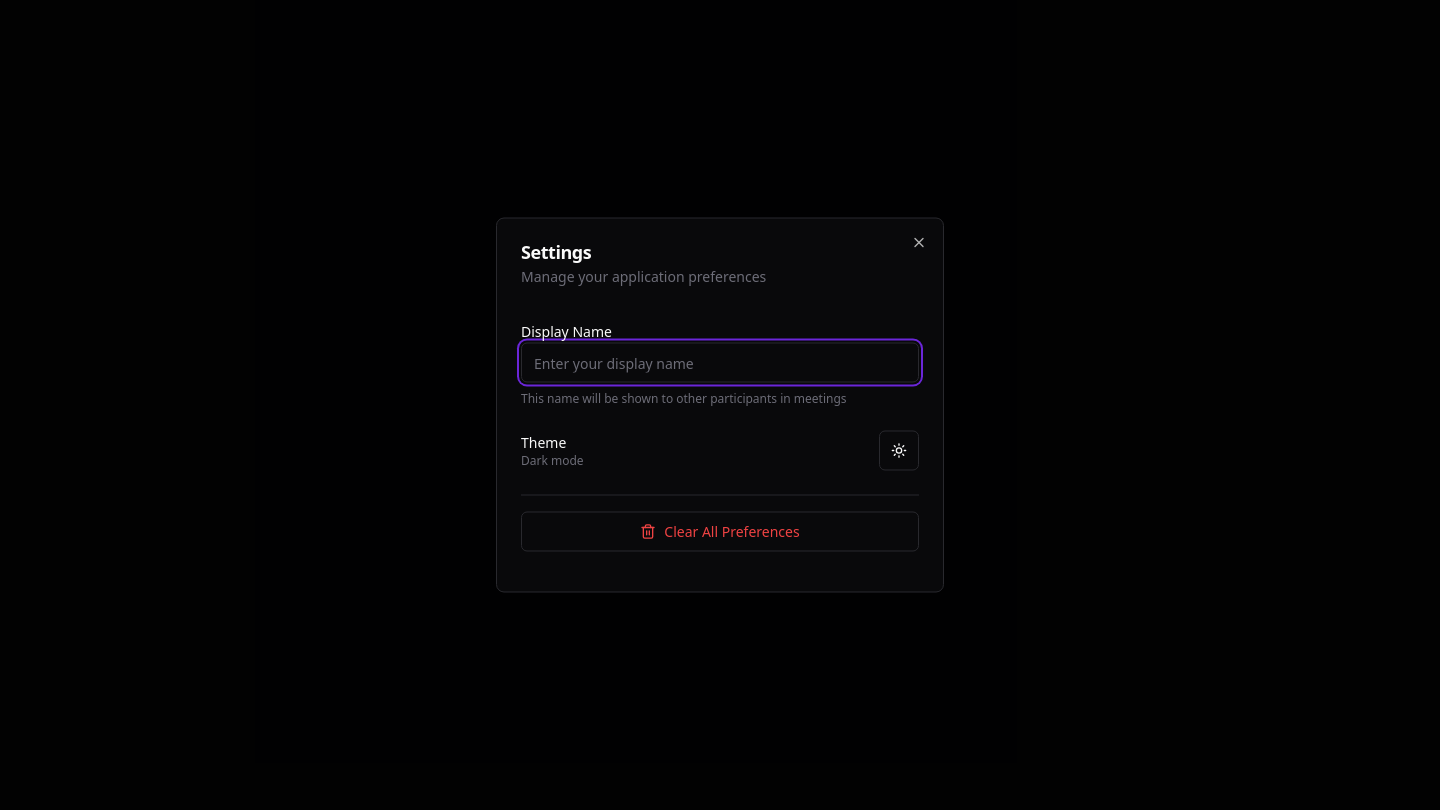
Test case: SettingsModal › clear preferences button (AC-2.14.5, AC-2.14.6) › shows confirmation when clear button is clicked
Click the button "Clear All Preferences" at (720, 532), box [521,512,919,552]
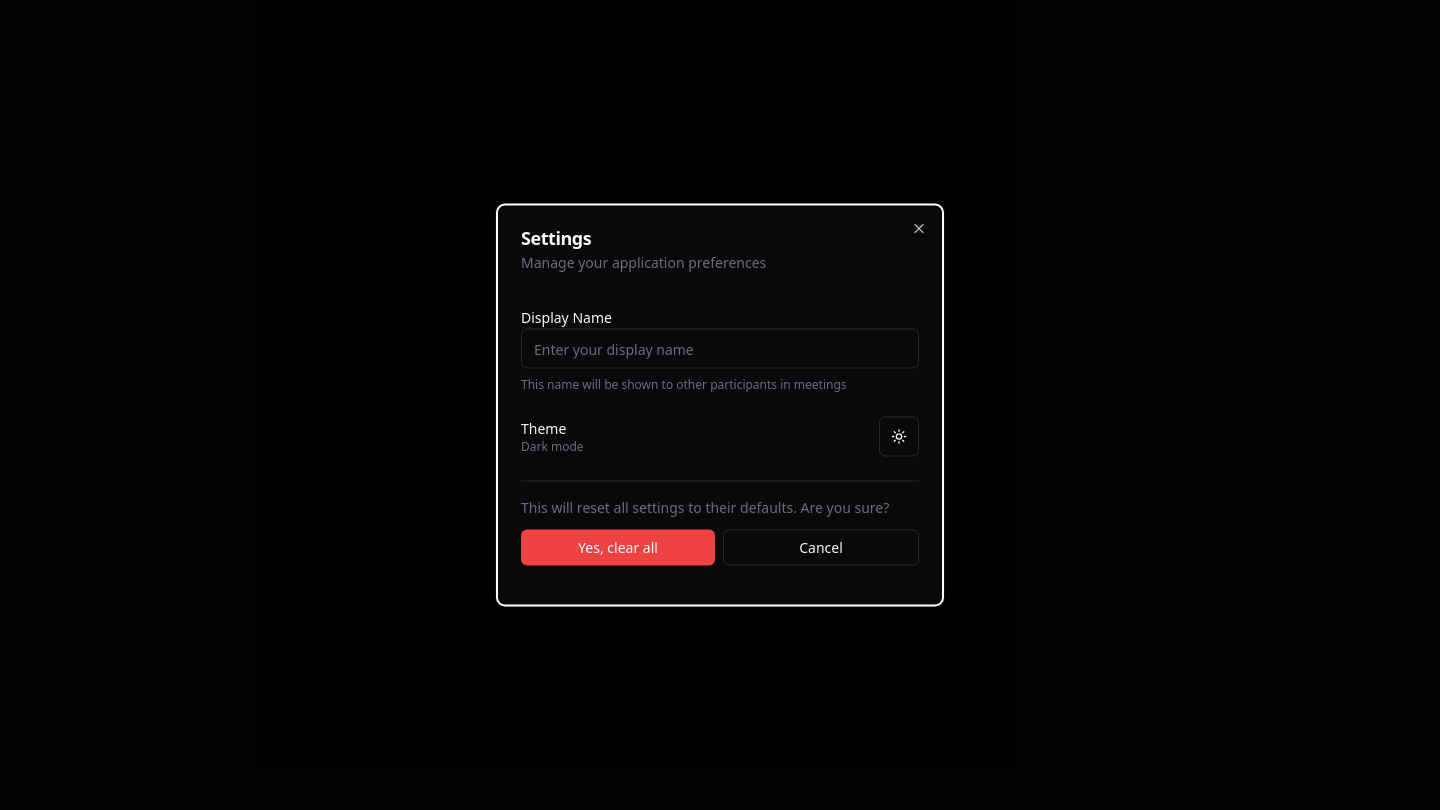
Expected: the text "Are you sure" is shown, [521,498,889,516]
Expected: the button "Yes, clear all" is shown, [521,530,715,566]
Expected: the button "Cancel" is shown, [723,530,919,566]
